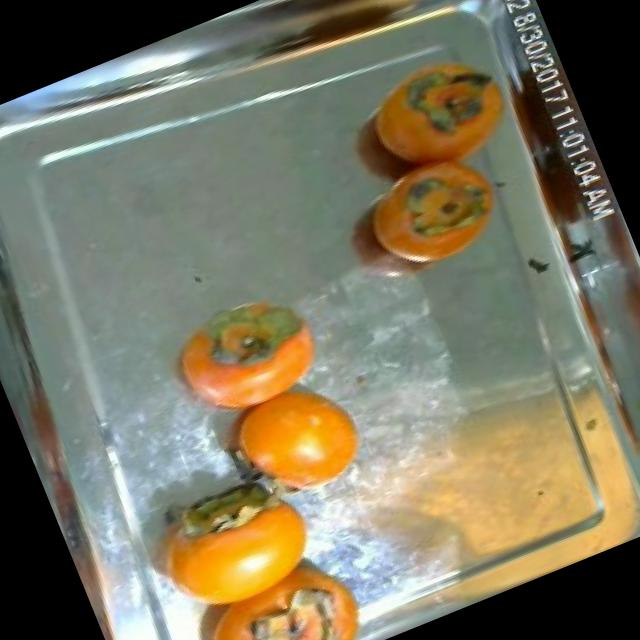Fruit: (190, 350, 393, 532), (332, 36, 536, 210), (344, 136, 528, 296)
